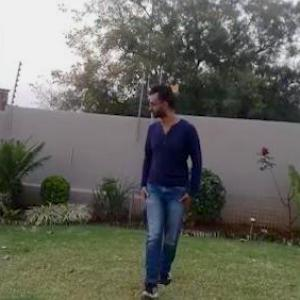follow: (132, 79, 202, 299)
